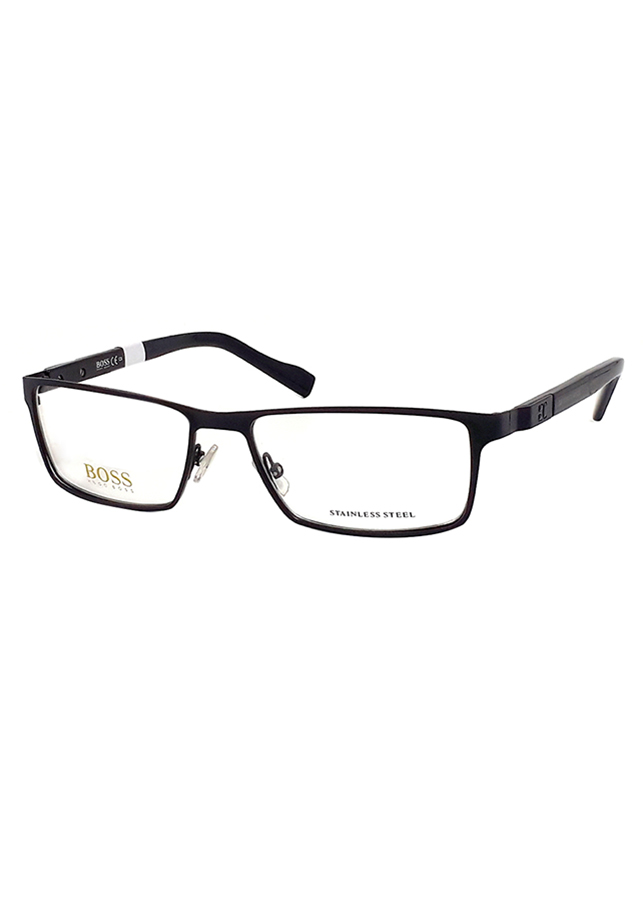Hugo Boss: (78, 454, 147, 496)
